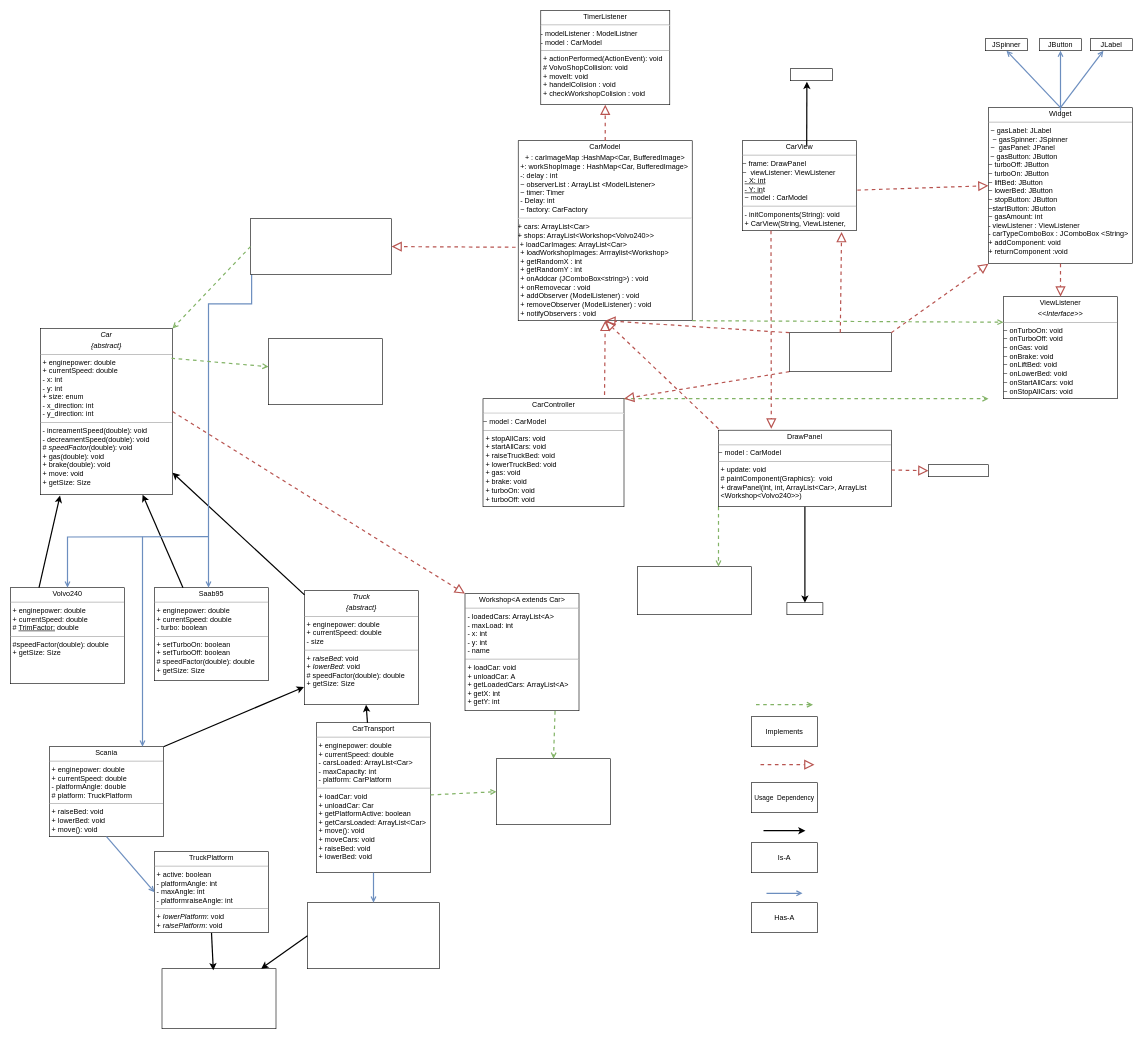
This 1143x1039 diagram has some shape labels left out. The centre of each missing label's shape, as x and y in pixels:
"BufferedImage" belongs at [958,470].
"CarApp + main(String [], args): void" belongs at [840,352].
"CarPlatform + active: boolean + lowerPlatform : void + raisePlatform : void" belongs at [373,935].
"Factory +createVolvo: Volvo240 +createSaab: Saab95 +createWorkshop: Workshop" belongs at [321,246].
"JFrame" belongs at [804,608].
"JPanel" belongs at [811,74].
"Loadable <<Interface>> + loadCar: void + unloadCar: Car" belongs at [553,791].
"ModelListener <<Interface>> + update: void" belongs at [694,590].
"Moveable <<Interface>> + move: void + turnRight: void + turnLeft: void" belongs at [325,371].
"Platform + active: boolean + lowerPlatform : void + raisePlatform : void" belongs at [218,998].
